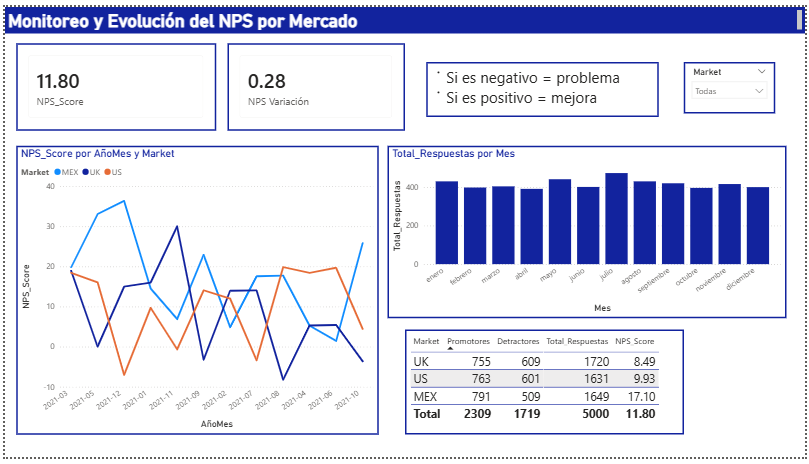

Layout of this report page (visuals, bound fields, positions):
{"tool":"powerbi","page":{"name":"Página 1","canvas":[1280,720],"ordinal":0},"visuals":[{"type":"cardVisual","title":"NPS General","fields":{"Data":["NPStimeseries.NPS_Score"]},"box":[18,58,320,140],"z":0},{"type":"lineChart","fields":{"Category":["Calendario.AñoMes"],"Y":["NPStimeseries.NPS_Score"],"Series":["NPStimeseries.Market"]},"box":[18,222,580,462],"z":1},{"type":"clusteredColumnChart","fields":{"Y":["NPStimeseries.Total_Respuestas"],"Category":["Calendario.Date.Variación.Jerarquía de fechas.Mes"]},"box":[612,222,638,276],"z":3},{"type":"tableEx","fields":{"Values":["NPStimeseries.Market","NPStimeseries.Promotores","NPStimeseries.Detractores","NPStimeseries.Total_Respuestas","NPStimeseries.NPS_Score"]},"box":[640,516,446,168],"z":4},{"type":"slicer","fields":{"Values":["NPStimeseries.Market"]},"box":[1086,88,146,82],"z":5},{"type":"cardVisual","fields":{"Data":["Calendario.NPS Variación"]},"box":[356,58,284,140],"z":6},{"type":"textbox","box":[674,88,372,88],"z":7},{"type":"textbox","box":[0,0,1280,42],"z":8}]}

Visuals, with their boxes in screenshot pixels (x1, y1, x2, y2), scaled from the page's 1280x720 canvas onto the 809x464 screenshot:
"NPS General" cardVisual: bbox=[11, 37, 214, 128]
lineChart - Calendario.AñoMes x NPStimeseries.NPS_Score: bbox=[11, 143, 378, 441]
clusteredColumnChart - NPStimeseries.Total_Respuestas x Calendario.Date.Variación.Jerarquía de fechas.Mes: bbox=[387, 143, 790, 321]
tableEx - NPStimeseries.Market x NPStimeseries.Promotores: bbox=[404, 333, 686, 441]
slicer - NPStimeseries.Market: bbox=[686, 57, 779, 110]
cardVisual - Calendario.NPS Variación: bbox=[225, 37, 404, 128]
textbox: bbox=[426, 57, 661, 113]
textbox: bbox=[0, 0, 808, 27]
